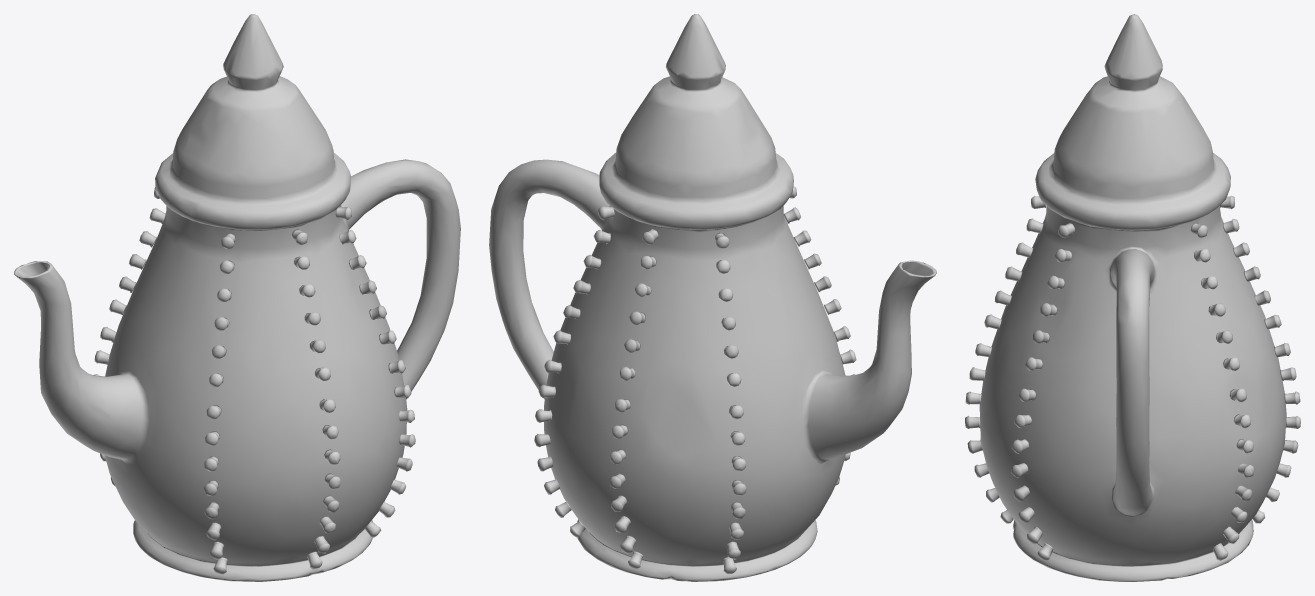
Rendered from SM_Teapot_Ride_CenterPot.fbx.
3 views of the same model, side by side, from view 1: azimuth 30°, elevation 25°; view 2: azimuth 150°, elevation 25°; view 3: azimuth 270°, elevation 25° (orthographic).
Visible parts, largest first — view 1: SM_Teapot_Ride_CenterPot_LOD0; view 2: SM_Teapot_Ride_CenterPot_LOD0; view 3: SM_Teapot_Ride_CenterPot_LOD0.
Boxes of the visible parts, x1,y1,x2,y2 form: SM_Teapot_Ride_CenterPot_LOD0: (14,14,460,581); SM_Teapot_Ride_CenterPot_LOD0: (489,14,936,581); SM_Teapot_Ride_CenterPot_LOD0: (965,14,1300,581).
Size of the model in its own units: 413 by 271 by 461.
